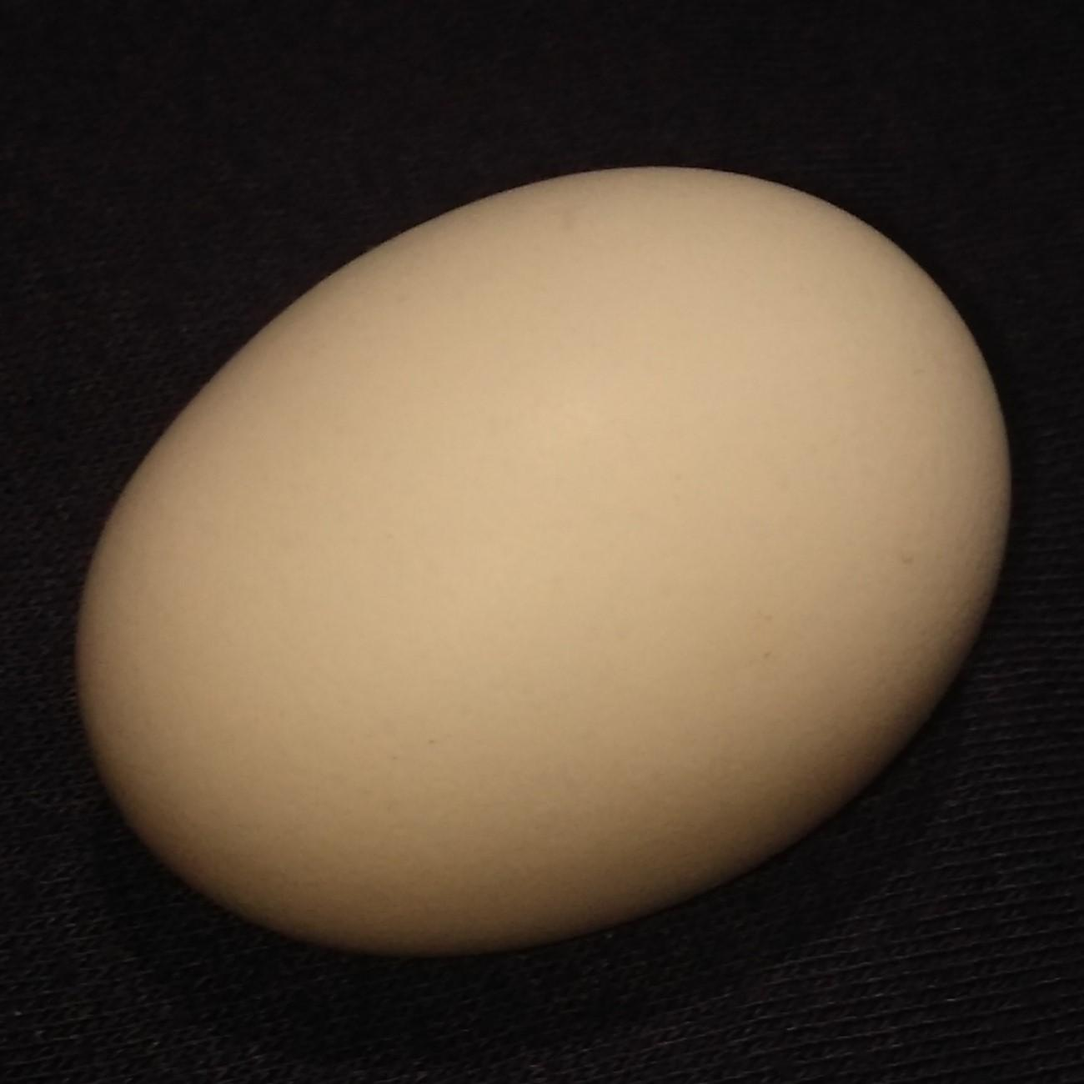egg: (83, 159, 1015, 963)
